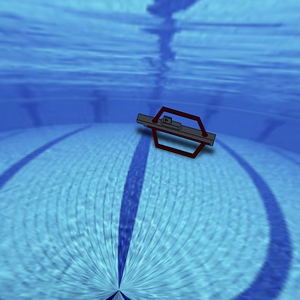submarine: (119, 84, 226, 178)
